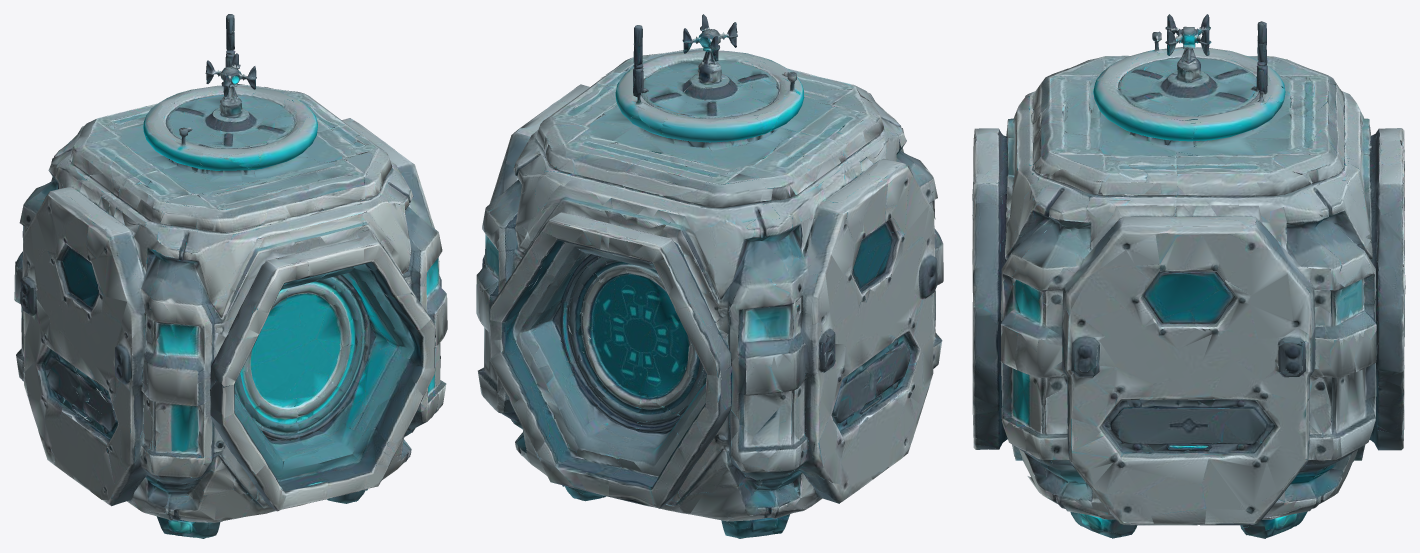
Rendered from kernel.glb.
3 renders of one model, left to right at view 1: azimuth 30°, elevation 25°; view 2: azimuth 150°, elevation 25°; view 3: azimuth 270°, elevation 25°, orthographic. The views are drawn at different scales.
Visible parts, largest first — view 1: Mesh_0; view 2: Mesh_0; view 3: Mesh_0.
Boxes of the visible parts, box(x1,y1,x2,y2) form: Mesh_0: box(14, 14, 447, 538); Mesh_0: box(476, 14, 943, 538); Mesh_0: box(972, 14, 1405, 538).
Bounding box in the file's own units: 1.46 × 1.9 × 1.56.
1 material, 1 textured.
